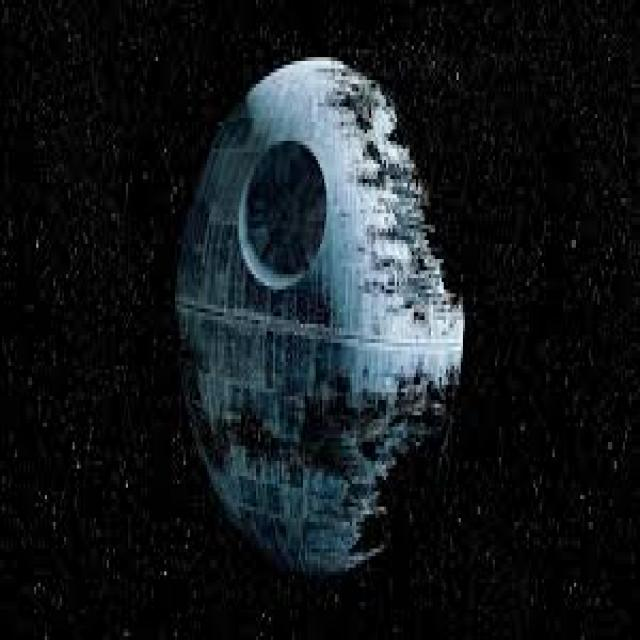deathStar: (174, 56, 466, 590)
